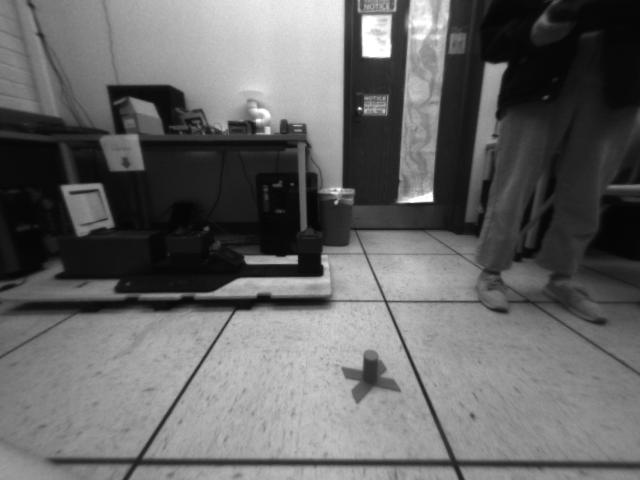x: (343, 348, 400, 401)
